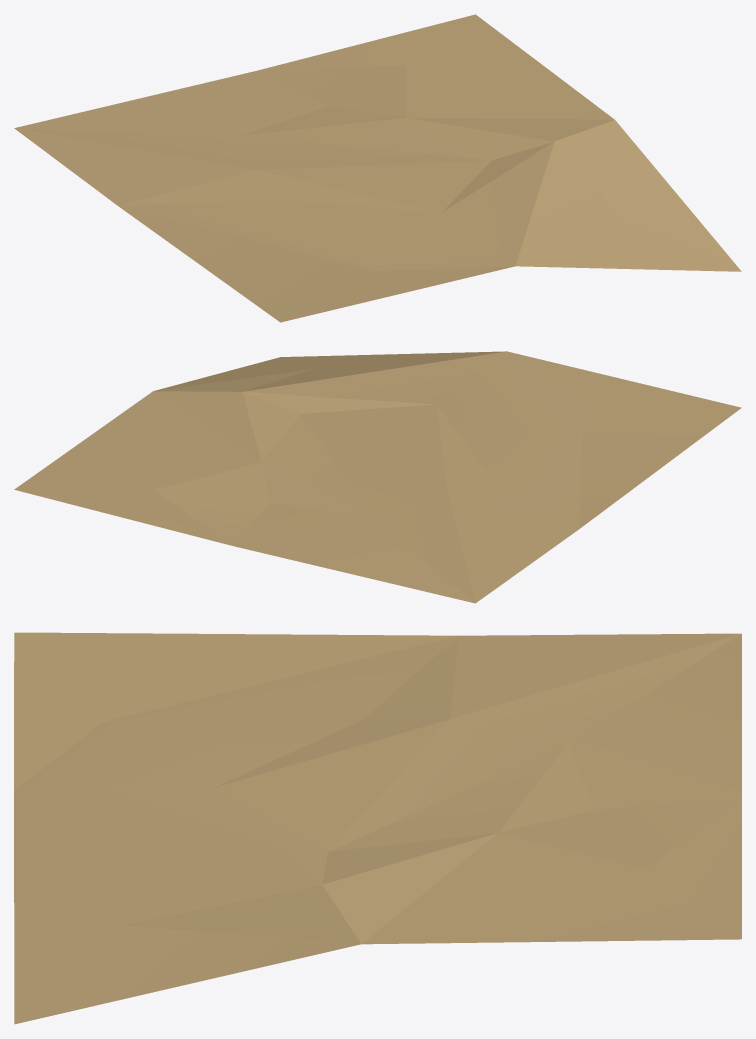
The model's file is SM_Land_03_E.glb.
The picture shows the model from 3 angles, top to bottom: view 1: azimuth 30°, elevation 25°; view 2: azimuth 150°, elevation 25°; view 3: azimuth 270°, elevation 25°; orthographic projection. The views are drawn at different scales.
Parts seen in each view (by area): view 1: SM_Land_03_E; view 2: SM_Land_03_E; view 3: SM_Land_03_E.
Part boxes in pixels (x1,y1,x2,y2): SM_Land_03_E: (14,14,741,322); SM_Land_03_E: (14,351,741,603); SM_Land_03_E: (14,632,741,1024).
Size of the model in its own units: 8 by 1.09 by 8.
Materials: 1 (1 with a texture image).
